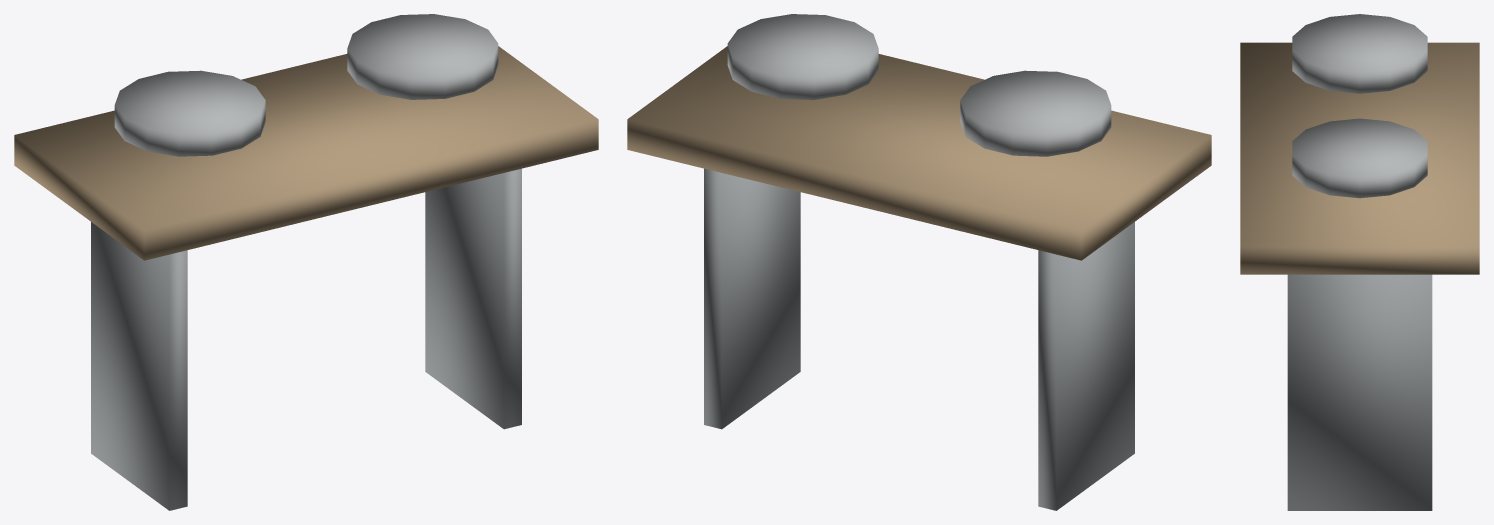
The model's file is projection_rewind_bench.glb.
The picture shows the model from 3 angles, left to right: view 1: azimuth 30°, elevation 25°; view 2: azimuth 150°, elevation 25°; view 3: azimuth 270°, elevation 25°; orthographic projection. The views are drawn at different scales.
Parts seen in each view (by area): view 1: world; view 2: world; view 3: world.
Part boxes in pixels (x1=…): world: x1=14, y1=14, x2=598, y2=510; world: x1=627, y1=14, x2=1211, y2=510; world: x1=1240, y1=14, x2=1479, y2=510.
Size of the model in its own units: 1.25 by 0.96 by 0.62.
